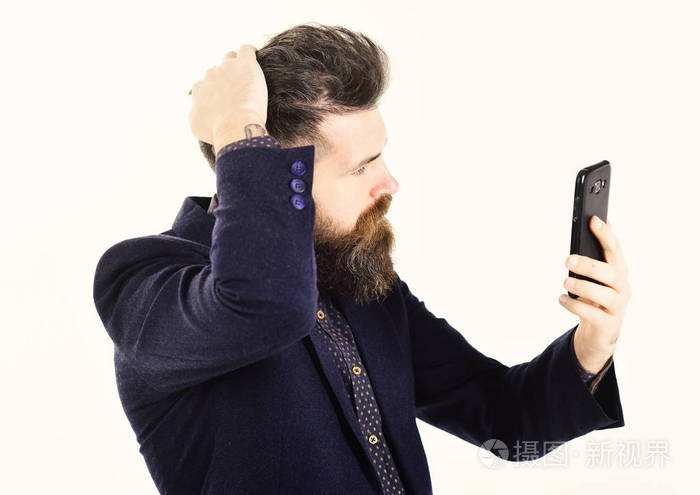taking photos: (555, 157, 635, 365)
